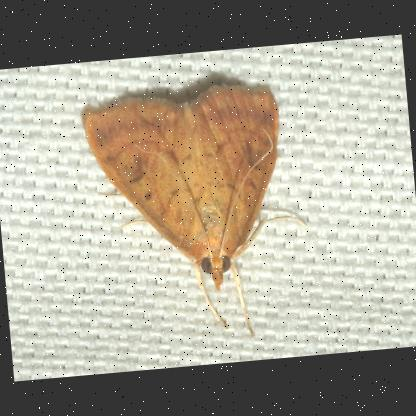Asian Corn Borer Moth: (75, 73, 320, 353)
